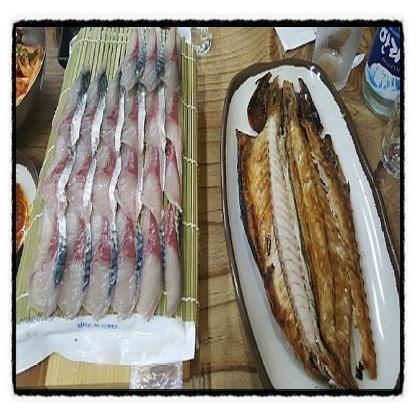Peixe: (228, 63, 370, 390)
